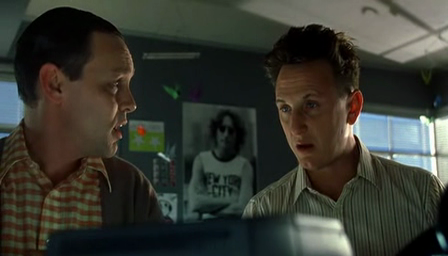face: (274, 77, 341, 170), (86, 44, 137, 158)
mcu: (1, 1, 448, 256)
person: (240, 23, 448, 256), (1, 5, 166, 256)
